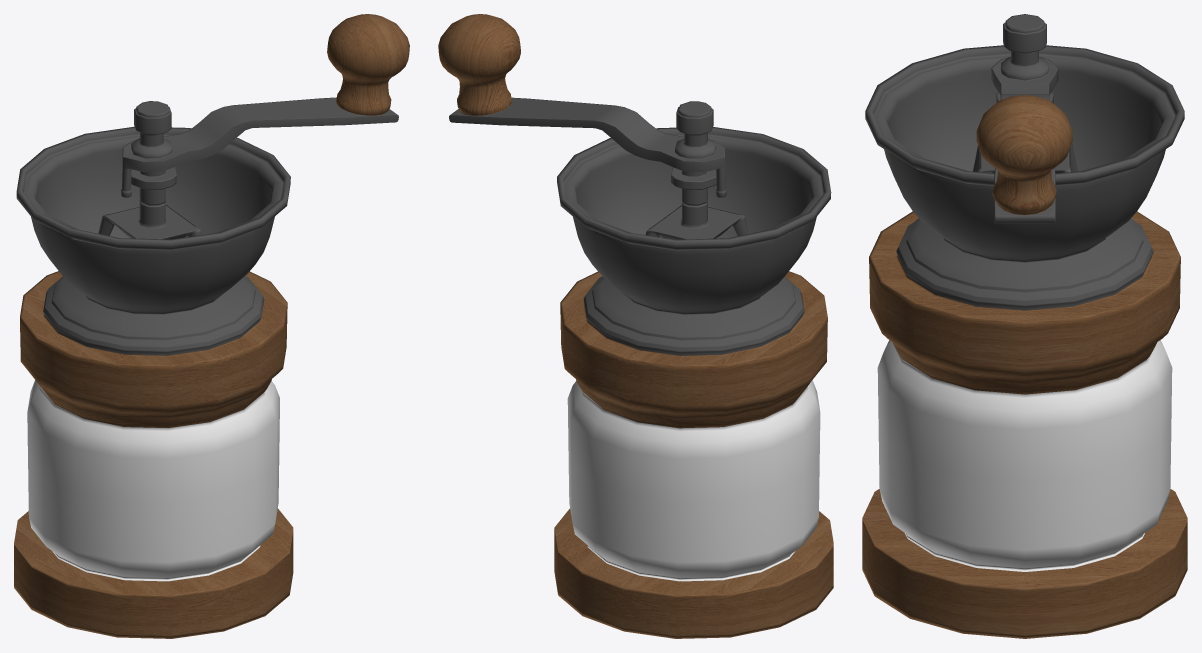
Rendered from Coffee_gringer(mesh).fbx.
The picture shows the model from 3 angles, left to right: view 1: azimuth 30°, elevation 25°; view 2: azimuth 150°, elevation 25°; view 3: azimuth 270°, elevation 25°; orthographic projection. The views are drawn at different scales.
Visible parts, largest first — view 1: Coffee grinder(mesh); view 2: Coffee grinder(mesh); view 3: Coffee grinder(mesh).
Part boxes in pixels (x1,y1,x2,y2): Coffee grinder(mesh): (14, 14, 409, 638); Coffee grinder(mesh): (438, 14, 833, 638); Coffee grinder(mesh): (862, 14, 1187, 638).
Size of the model in its own units: 23 by 30 by 15.
